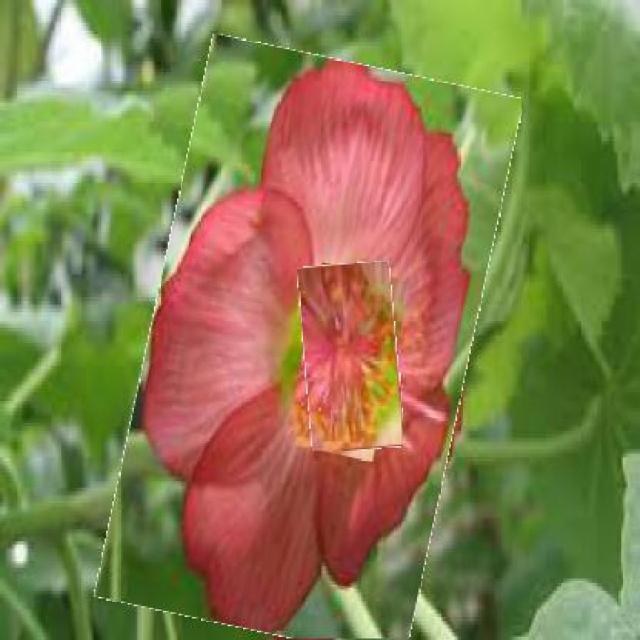Flower: (123, 48, 497, 639), (301, 262, 401, 451)
